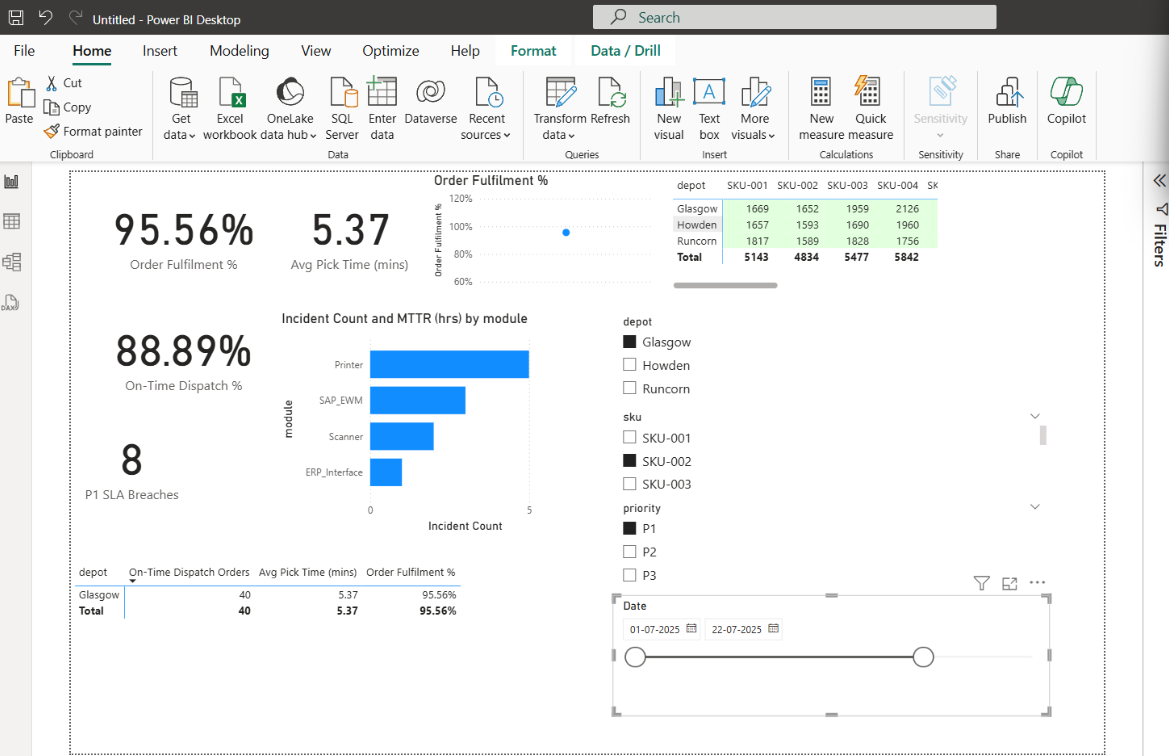

The dashboard page shown, as its layout file describes it:
{"tool":"powerbi","page":{"name":"Page 1","canvas":[1280,720],"ordinal":0},"visuals":[{"type":"card","fields":{"Values":["Dashboard.Order Fulfilment %"]},"box":[0,0,280,150],"z":0},{"type":"card","fields":{"Values":["Dashboard.On-Time Dispatch %"]},"box":[0,140,280,170],"z":1000},{"type":"card","fields":{"Values":["Dashboard.P1 SLA Breaches"]},"box":[0,290,151.2,140],"z":2000},{"type":"card","fields":{"Values":["Dashboard.Avg Pick Time (mins)"]},"box":[246.2,0,198.8,150],"z":3000},{"type":"lineChart","fields":{"Y":["Dashboard.Order Fulfilment %"]},"box":[445,0,280,150],"z":4000},{"type":"pivotTable","fields":{"Rows":["Orders.depot"],"Values":["Dashboard.On-Time Dispatch Orders","Dashboard.Avg Pick Time (mins)","Dashboard.Order Fulfilment %"]},"box":[0,478.8,490,127.5],"z":5000},{"type":"barChart","fields":{"Y":["Dashboard.Incident Count"],"Category":["Incidents.module"]},"box":[256.2,171.2,360,280],"z":6000},{"type":"pivotTable","fields":{"Rows":["Inventory.depot"],"Columns":["Inventory.sku"],"Values":["Dashboard.Stock Variance"]},"box":[741.2,0,337.5,150],"z":7000},{"type":"slicer","fields":{"Values":["Orders.depot"]},"box":[671.2,171.2,542.5,126.2],"z":8000},{"type":"slicer","fields":{"Values":["Orders.sku"]},"box":[671.2,290,542.5,112.5],"z":9000},{"type":"slicer","fields":{"Values":["Incidents.priority"]},"box":[671.2,402.5,542.5,121.2],"z":10000},{"type":"slicer","fields":{"Values":["Date.Date"]},"box":[671.2,523.8,542.5,150],"z":11000}]}

Visuals, with their boxes on the page's 1280x720 design canvas (x1, y1, x2, y2). These are canvas units, not pixel positions in the 1169x756 screenshot, which may show the page scaled, cropped or inside an application window:
card - Dashboard.Order Fulfilment %: pyautogui.locateOnScreen(0, 0, 280, 150)
card - Dashboard.On-Time Dispatch %: pyautogui.locateOnScreen(0, 140, 280, 310)
card - Dashboard.P1 SLA Breaches: pyautogui.locateOnScreen(0, 290, 151, 430)
card - Dashboard.Avg Pick Time (mins): pyautogui.locateOnScreen(246, 0, 445, 150)
lineChart - Dashboard.Order Fulfilment %: pyautogui.locateOnScreen(445, 0, 725, 150)
pivotTable - Orders.depot x Dashboard.On-Time Dispatch Orders: pyautogui.locateOnScreen(0, 479, 490, 606)
barChart - Dashboard.Incident Count x Incidents.module: pyautogui.locateOnScreen(256, 171, 616, 451)
pivotTable - Inventory.depot x Inventory.sku: pyautogui.locateOnScreen(741, 0, 1079, 150)
slicer - Orders.depot: pyautogui.locateOnScreen(671, 171, 1214, 297)
slicer - Orders.sku: pyautogui.locateOnScreen(671, 290, 1214, 402)
slicer - Incidents.priority: pyautogui.locateOnScreen(671, 402, 1214, 524)
slicer - Date.Date: pyautogui.locateOnScreen(671, 524, 1214, 674)
